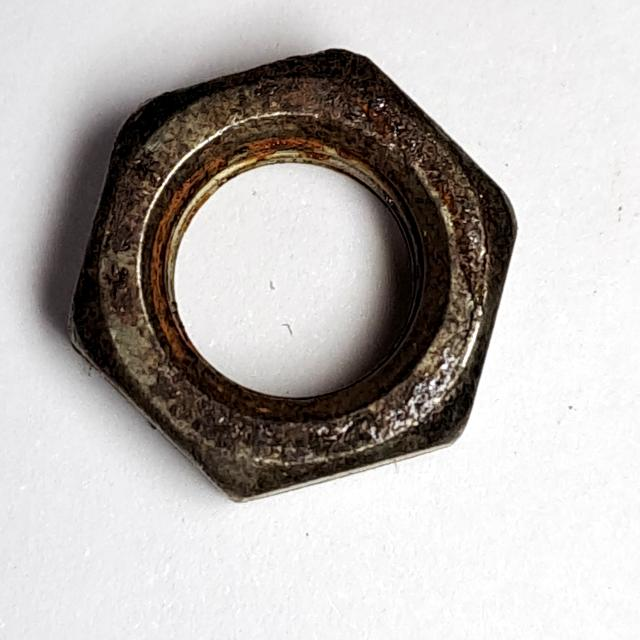Rust: (55, 38, 527, 517)
